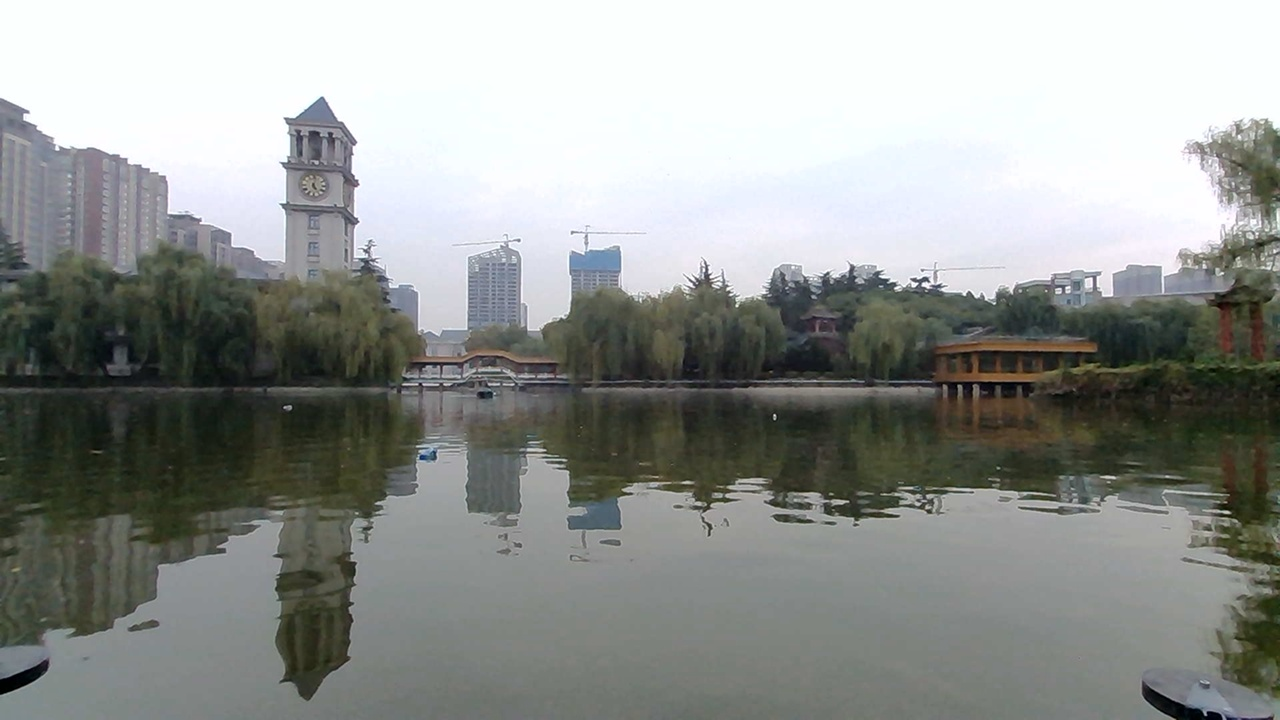bottle: (405, 441, 444, 465), (760, 401, 784, 425), (278, 396, 301, 414)
